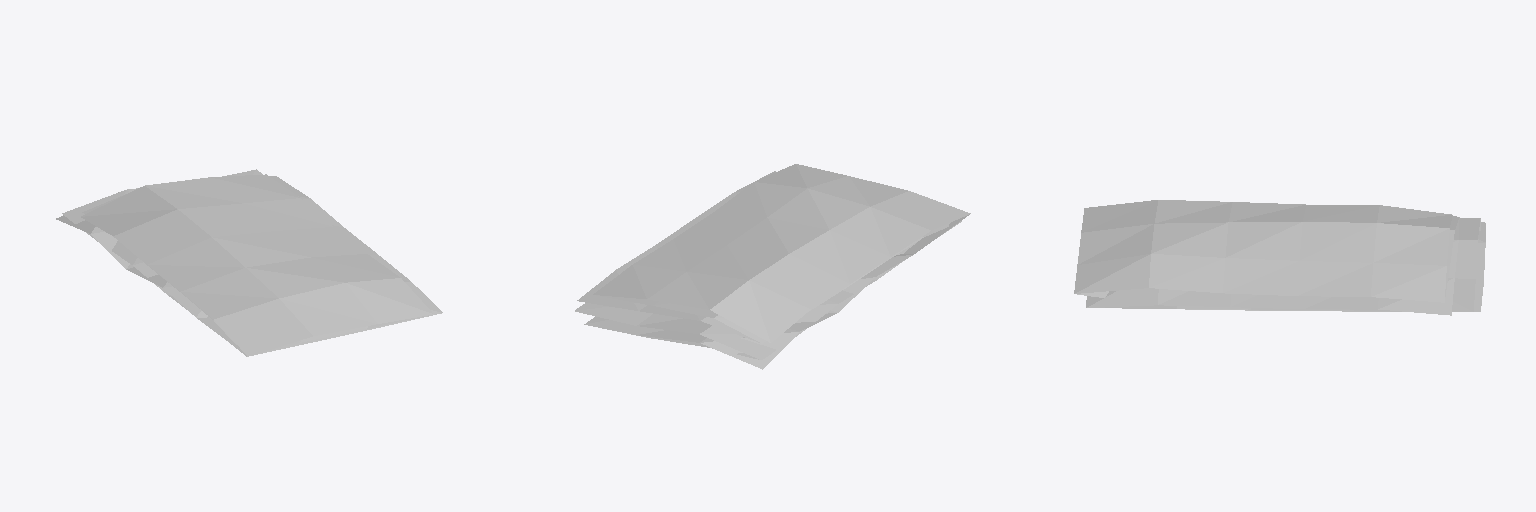
Rendered from blanket2.obj.
3 renders of one model, left to right at view 1: azimuth 30°, elevation 25°; view 2: azimuth 150°, elevation 25°; view 3: azimuth 270°, elevation 25°, orthographic.
Parts seen in each view (by area): view 1: pPlane1; view 2: pPlane1; view 3: pPlane1.
Part boxes in pixels (bbox=[...]): pPlane1: bbox=[56, 169, 442, 356]; pPlane1: bbox=[575, 164, 970, 369]; pPlane1: bbox=[1074, 200, 1485, 315].
Size of the model in its own units: 0.4688 by 0.0788 by 0.7921.